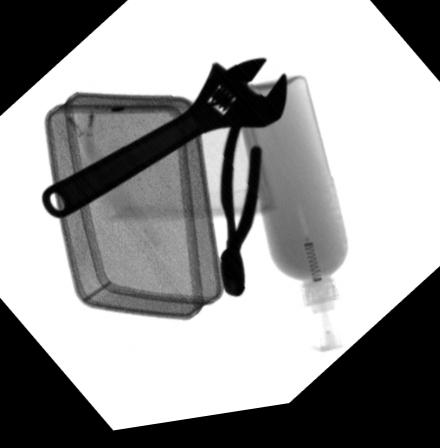Pliers: (216, 106, 263, 304)
Wrench: (40, 61, 288, 218)
